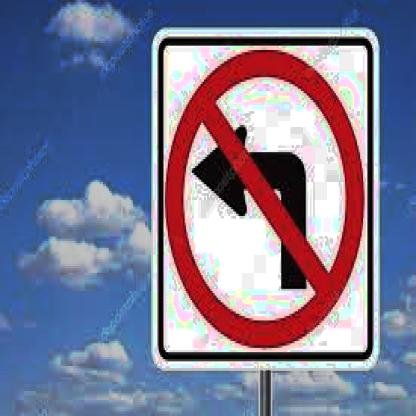No left turn: (167, 43, 358, 350)
